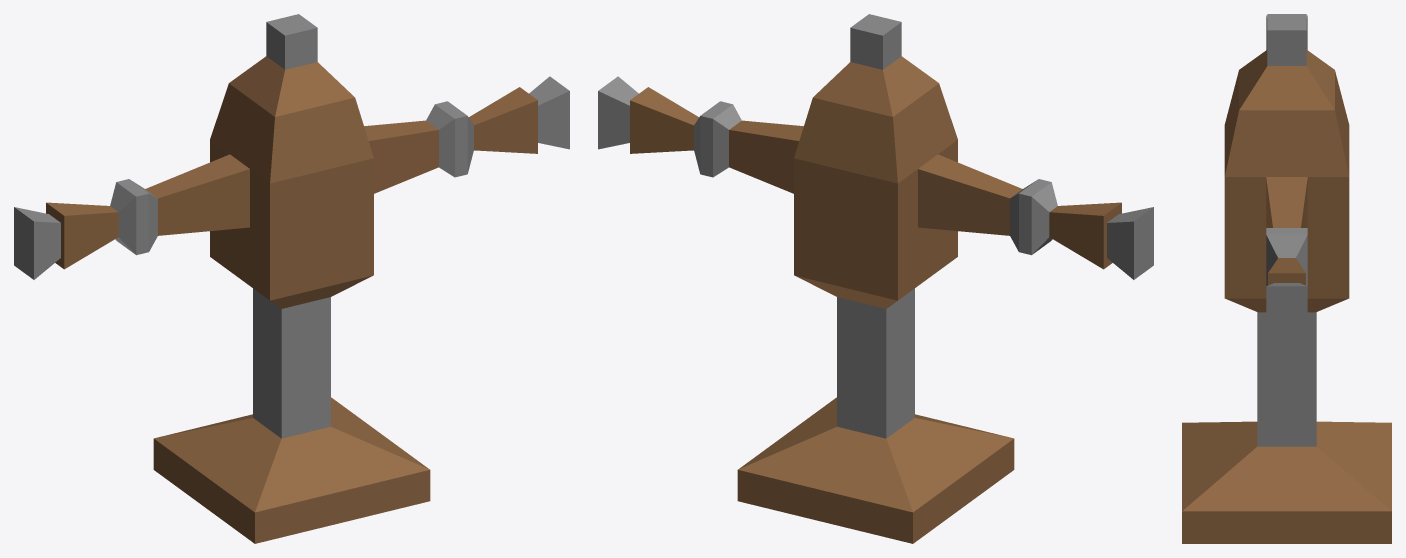
3 views of the same model, side by side, from view 1: azimuth 30°, elevation 25°; view 2: azimuth 150°, elevation 25°; view 3: azimuth 270°, elevation 25° (orthographic). The views are drawn at different scales.
Visible parts, largest first — view 1: Cube; view 2: Cube; view 3: Cube.
Boxes of the visible parts, box(x1,y1,x2,y2) form: Cube: box(14, 14, 569, 543); Cube: box(598, 14, 1153, 543); Cube: box(1182, 14, 1391, 543).
Size of the model in its own units: 6.11 by 5.02 by 2.
